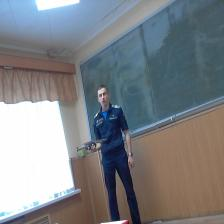drone: (71, 134, 112, 154)
